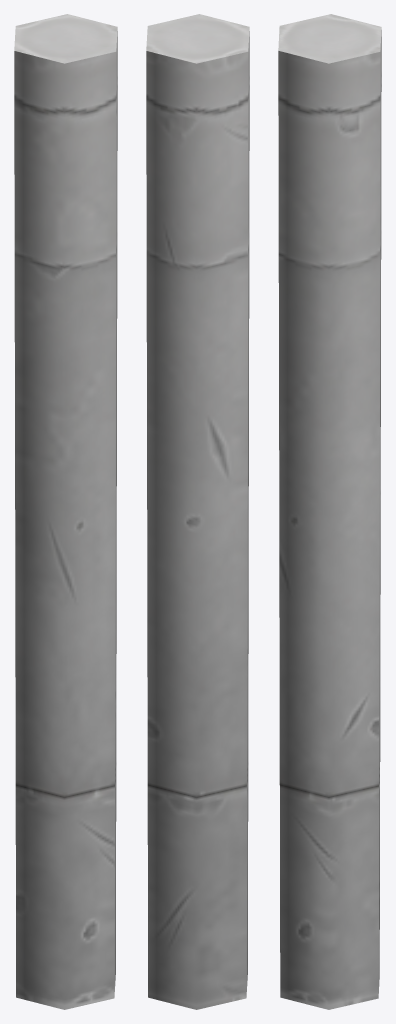
Rendered from Pfb_BarbedWire.fbx.
The picture shows the model from 3 angles, left to right: view 1: azimuth 30°, elevation 25°; view 2: azimuth 210°, elevation 25°; view 3: azimuth 330°, elevation 25°; orthographic projection.
Parts seen in each view (by area): view 1: Mat_BarbedWire_01; view 2: Mat_BarbedWire_01; view 3: Mat_BarbedWire_01.
Boxes of the visible parts, bbox=[...] form: Mat_BarbedWire_01: bbox=[14, 14, 117, 1009]; Mat_BarbedWire_01: bbox=[146, 14, 249, 1009]; Mat_BarbedWire_01: bbox=[278, 14, 381, 1009].
Bounding box in the file's own units: 0.2136 × 1.89 × 0.1864.
1 material, 1 textured.
